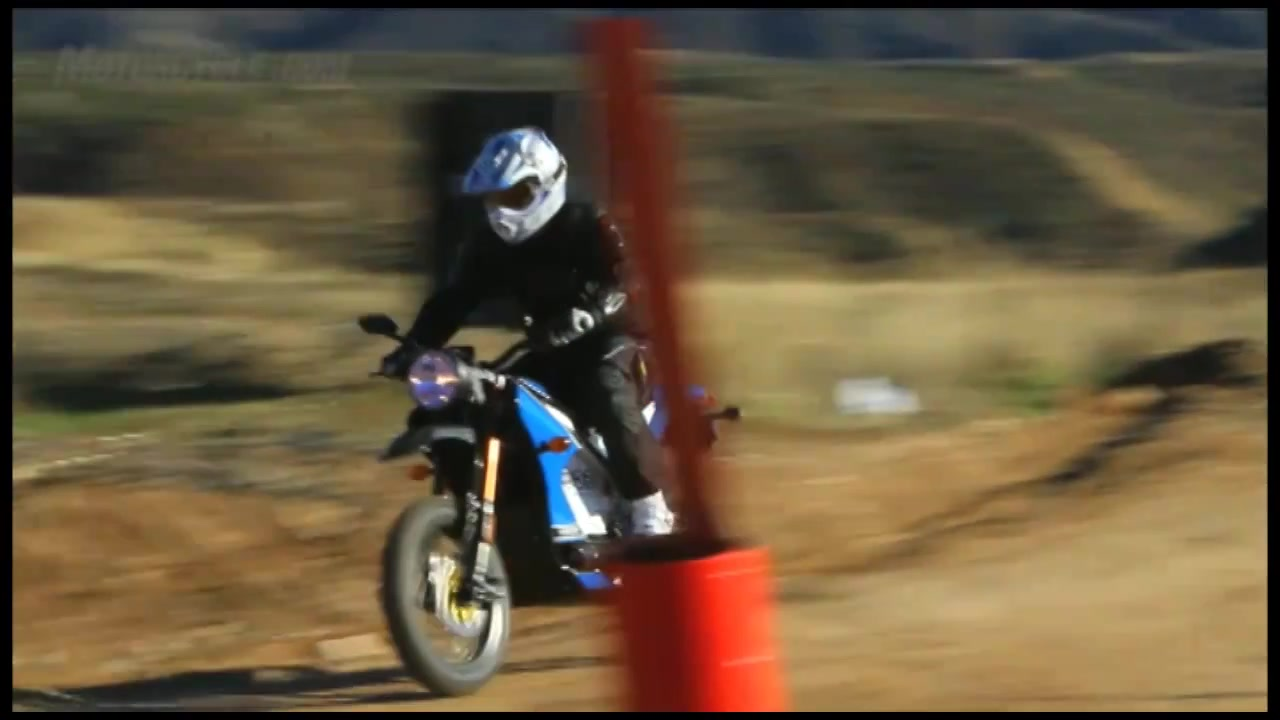motorbike: (356, 311, 744, 704)
